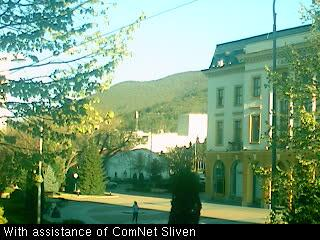person: (131, 200, 139, 224)
